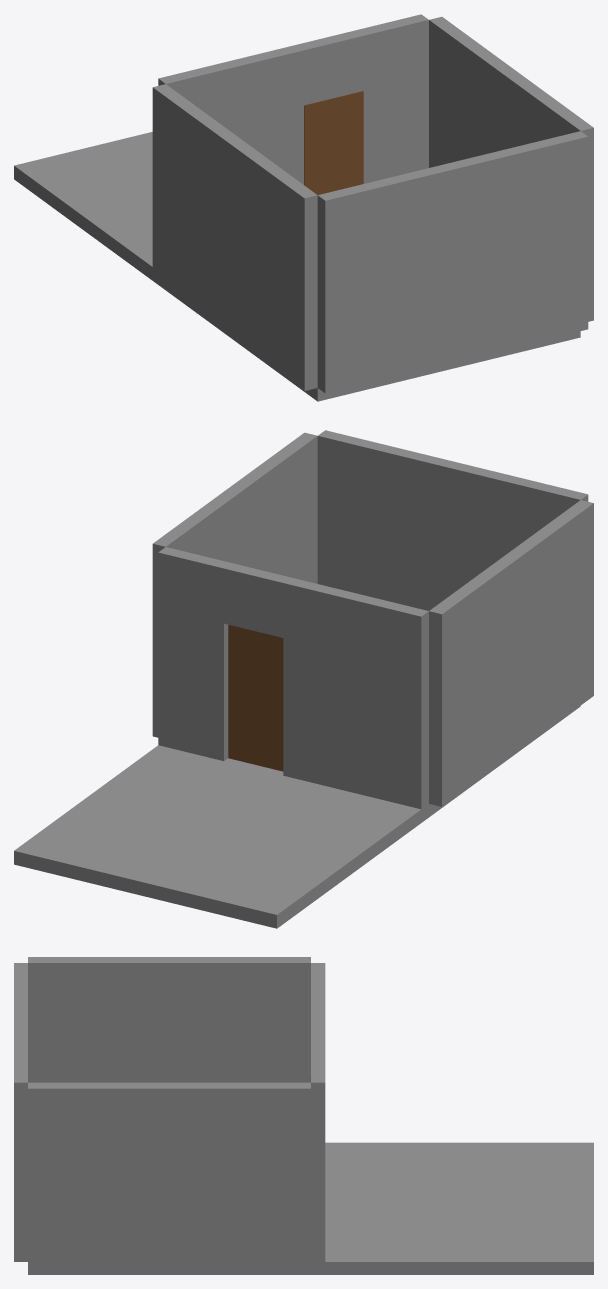
Rendered from ESCENE_EscapeRoom.fbx.
3 views of the same model, one above another, from view 1: azimuth 30°, elevation 25°; view 2: azimuth 150°, elevation 25°; view 3: azimuth 270°, elevation 25° (orthographic). The views are drawn at different scales.
Parts seen in each view (by area): view 1: ENV_Wall_280x100.001, ENV_Wall_280x100.004, ENV_Wall_280x100.002, ENV_Wall_280x100.003, ENV_Floor_100x100_001.001, INT_Door_001.001; view 2: ENV_Wall_280x100.002, ENV_Floor_100x100_001.001, ENV_Wall_280x100.004, ENV_Wall_280x100.001, ENV_Wall_280x100.003, INT_Door_001.001; view 3: ENV_Wall_280x100.003, ENV_Floor_100x100_001.001, ENV_Wall_280x100.004, ENV_Wall_280x100.002, ENV_Wall_280x100.001.
Boxes of the visible parts, bbox=[...] form: ENV_Wall_280x100.001: bbox=[317, 131, 588, 393]; ENV_Wall_280x100.004: bbox=[152, 84, 317, 390]; ENV_Wall_280x100.002: bbox=[158, 14, 428, 184]; ENV_Wall_280x100.003: bbox=[429, 16, 593, 321]; ENV_Floor_100x100_001.001: bbox=[14, 132, 580, 401]; INT_Door_001.001: bbox=[304, 91, 363, 194]; ENV_Wall_280x100.002: bbox=[158, 547, 428, 809]; ENV_Floor_100x100_001.001: bbox=[14, 706, 580, 928]; ENV_Wall_280x100.004: bbox=[429, 500, 593, 806]; ENV_Wall_280x100.001: bbox=[317, 430, 588, 610]; ENV_Wall_280x100.003: bbox=[152, 432, 317, 737]; INT_Door_001.001: bbox=[228, 624, 283, 771]; ENV_Wall_280x100.003: bbox=[28, 1082, 310, 1267]; ENV_Floor_100x100_001.001: bbox=[28, 1142, 593, 1274]; ENV_Wall_280x100.004: bbox=[28, 957, 310, 1082]; ENV_Wall_280x100.002: bbox=[311, 963, 325, 1261]; ENV_Wall_280x100.001: bbox=[14, 963, 27, 1261].
Size of the model in its own units: 440 by 300 by 820.
